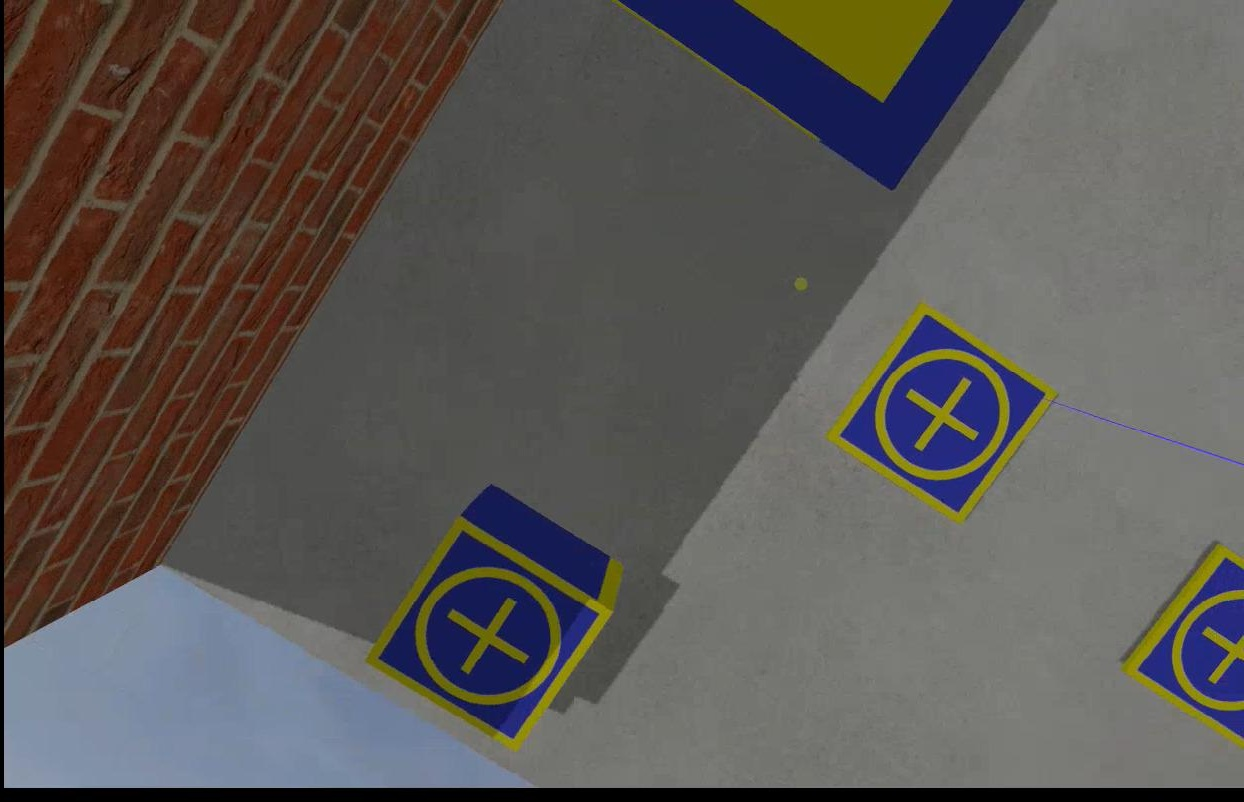large_base: (604, 1, 1035, 181)
small_base: (366, 521, 606, 749), (824, 306, 1053, 528), (1121, 545, 1242, 742)
